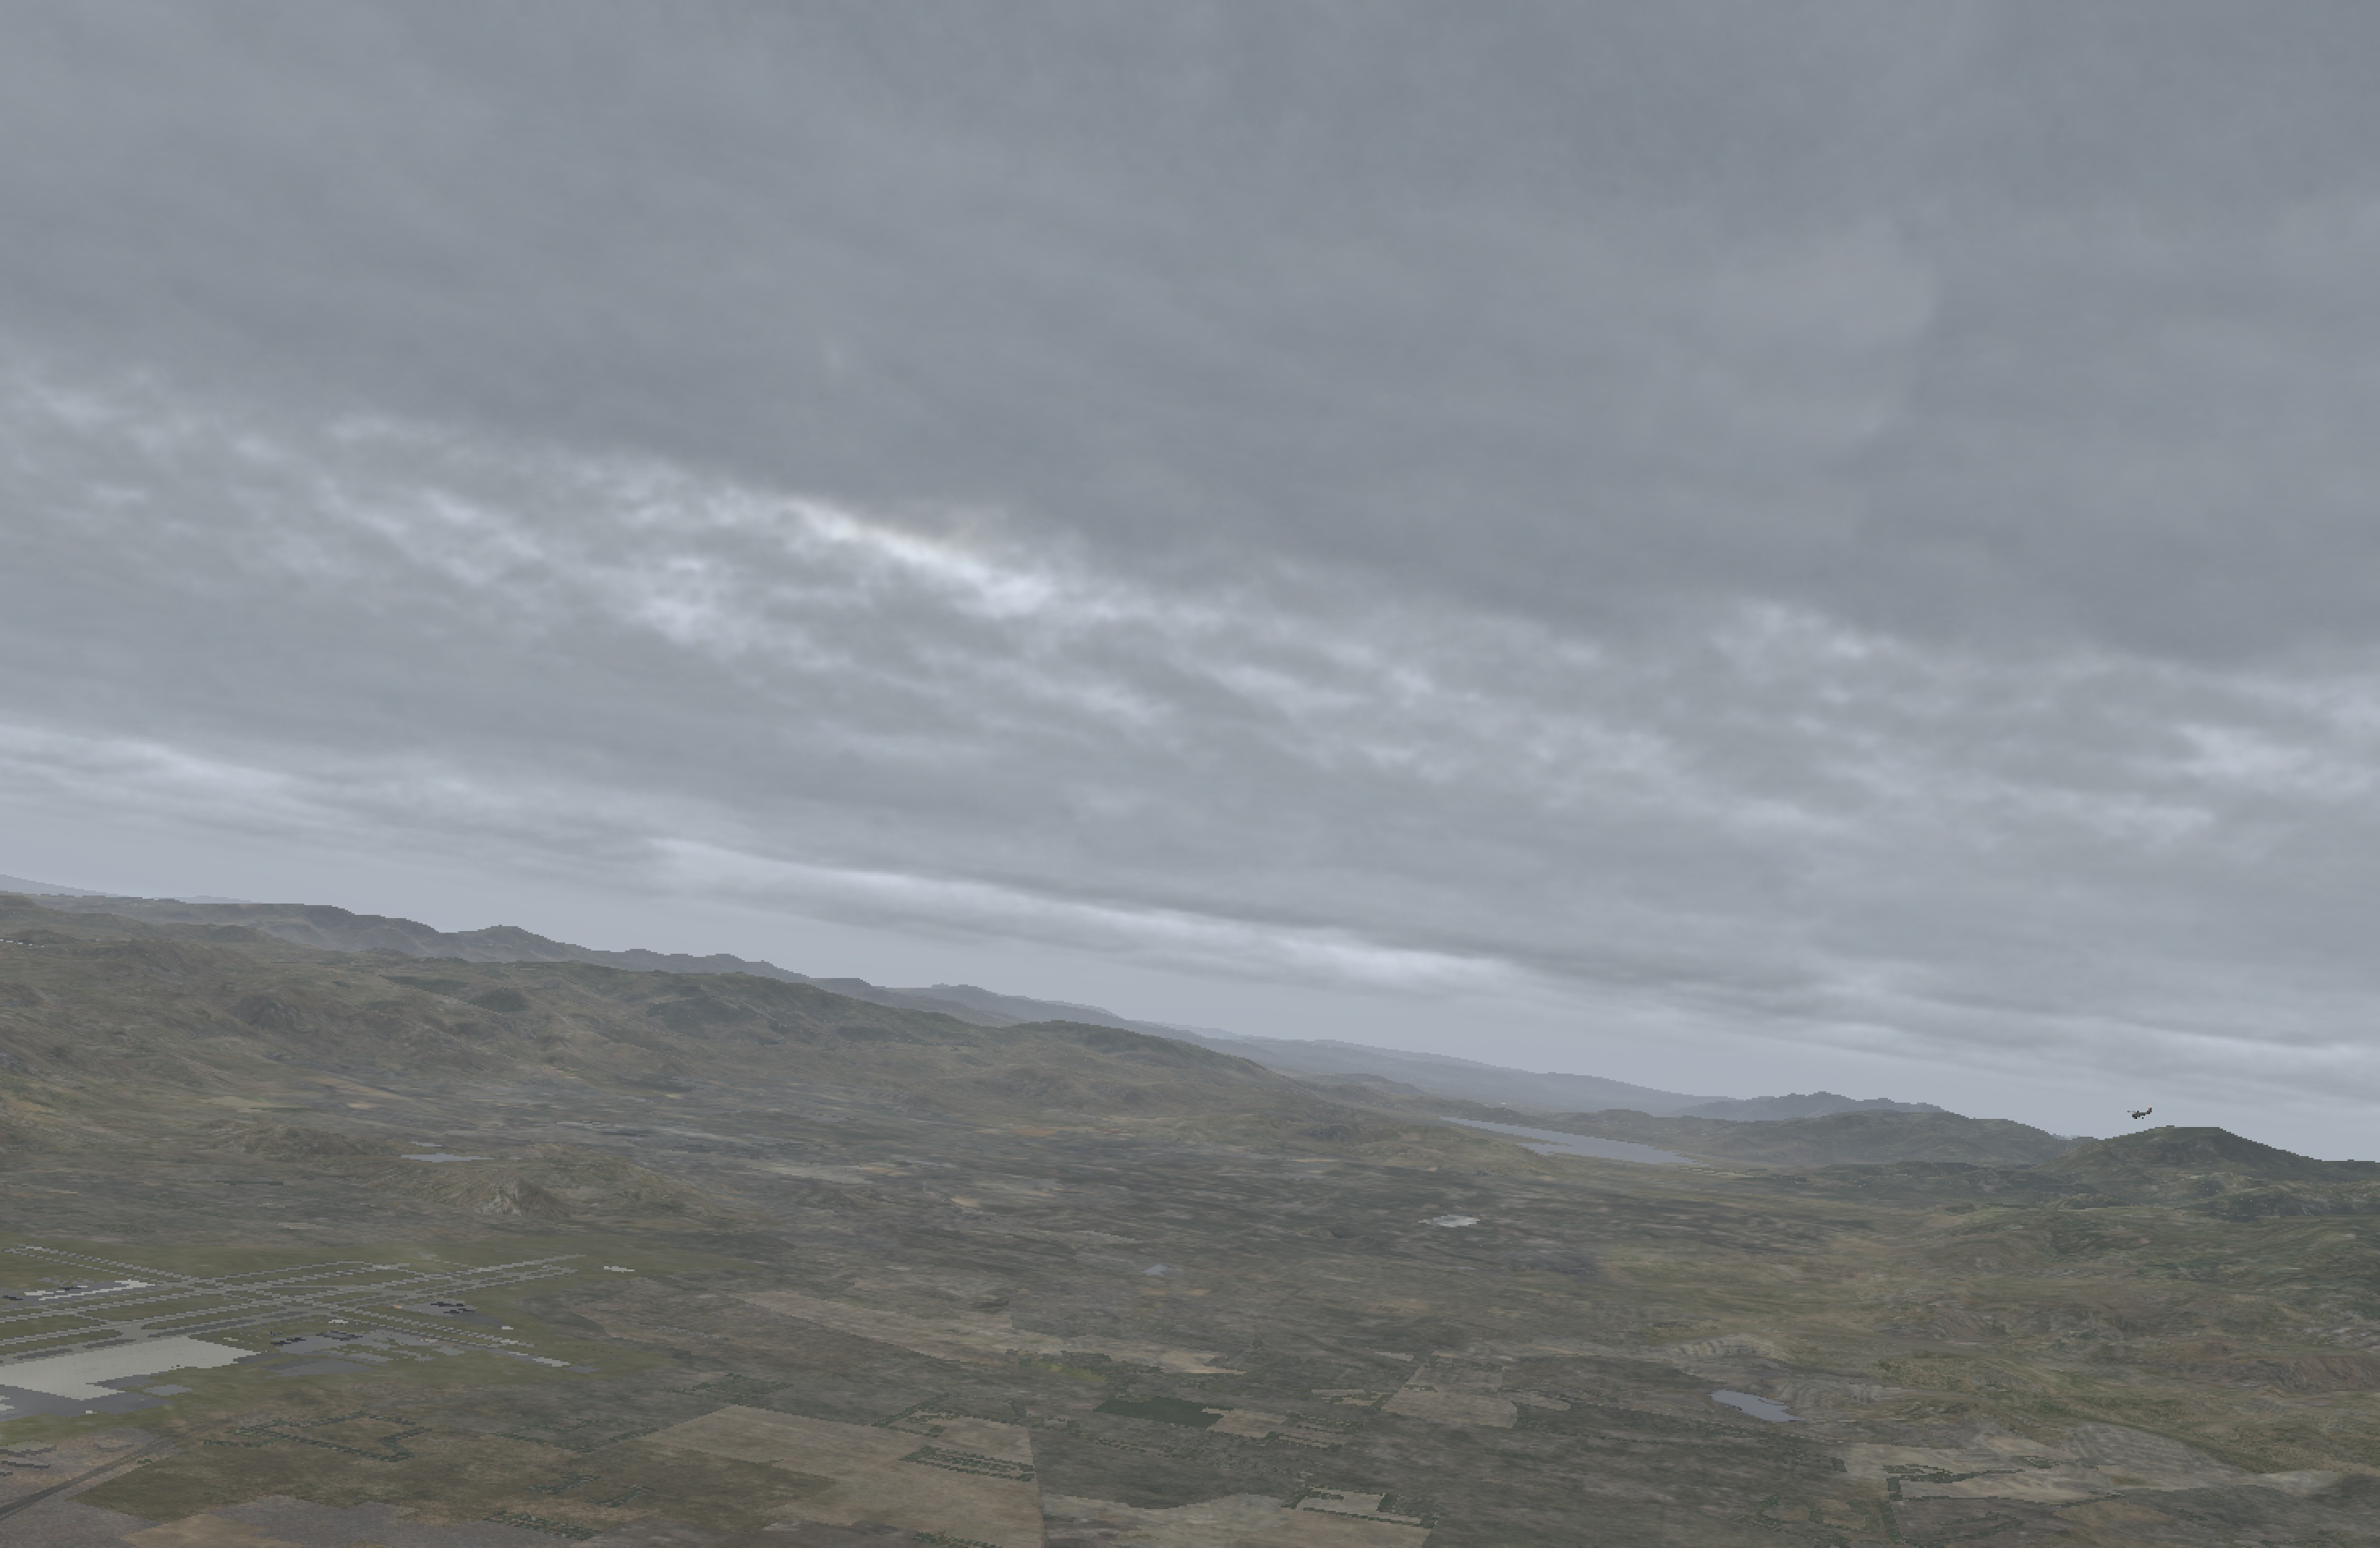aircraft: (2127, 1111, 2149, 1118)
